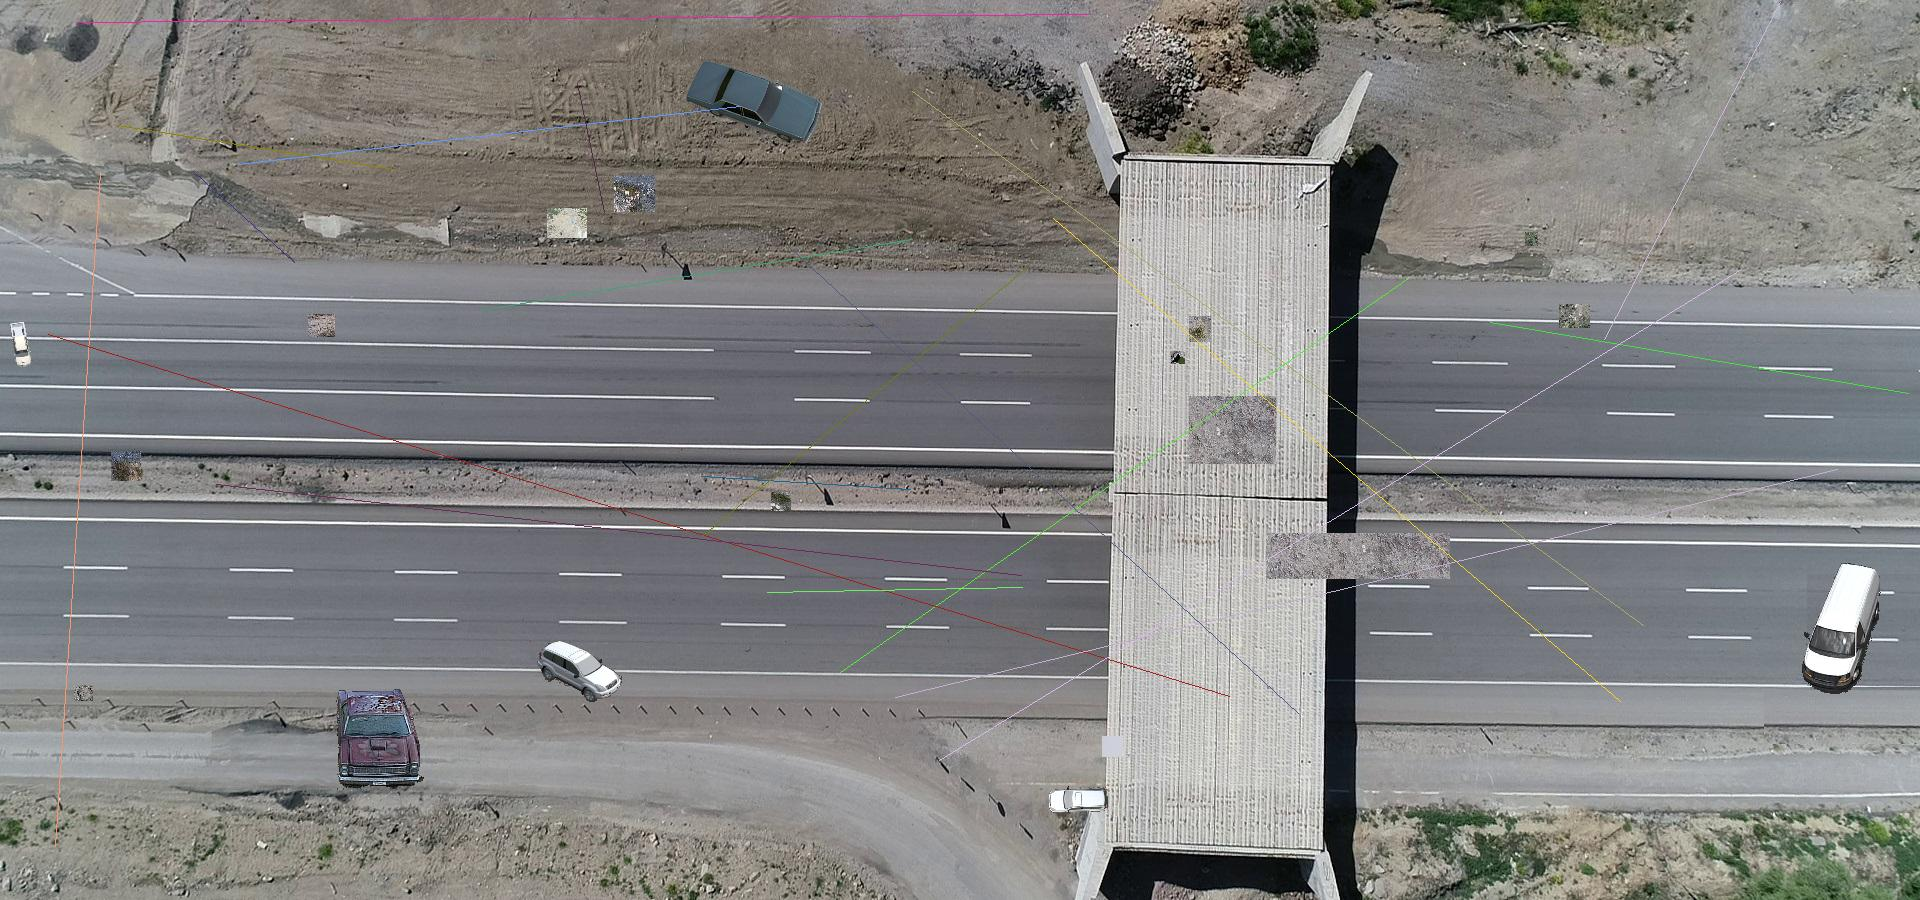arac: (681, 62, 825, 144), (1802, 560, 1882, 694), (329, 684, 424, 791), (536, 638, 622, 703), (1049, 786, 1109, 816), (9, 322, 34, 369)
